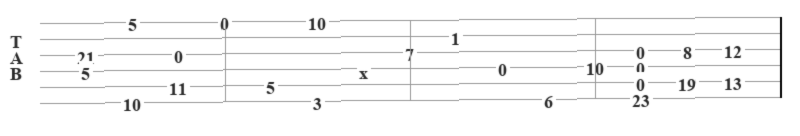0: (174, 44, 187, 60), (220, 12, 233, 28), (498, 60, 511, 76), (636, 60, 649, 76), (636, 44, 649, 60), (636, 76, 649, 92)
1: (451, 28, 464, 44)
10: (123, 92, 145, 108), (308, 12, 330, 28), (586, 60, 608, 76)
11: (169, 76, 191, 92)
12: (724, 44, 746, 60)
13: (724, 76, 746, 92)
19: (678, 76, 700, 92)
21: (77, 44, 99, 60)
23: (632, 92, 654, 108)
3: (313, 92, 326, 108)
5: (81, 60, 94, 76), (128, 12, 141, 28), (266, 76, 279, 92)
6: (544, 92, 557, 108)
7: (405, 44, 418, 60)
8: (683, 44, 696, 60)
x: (359, 62, 372, 74)
